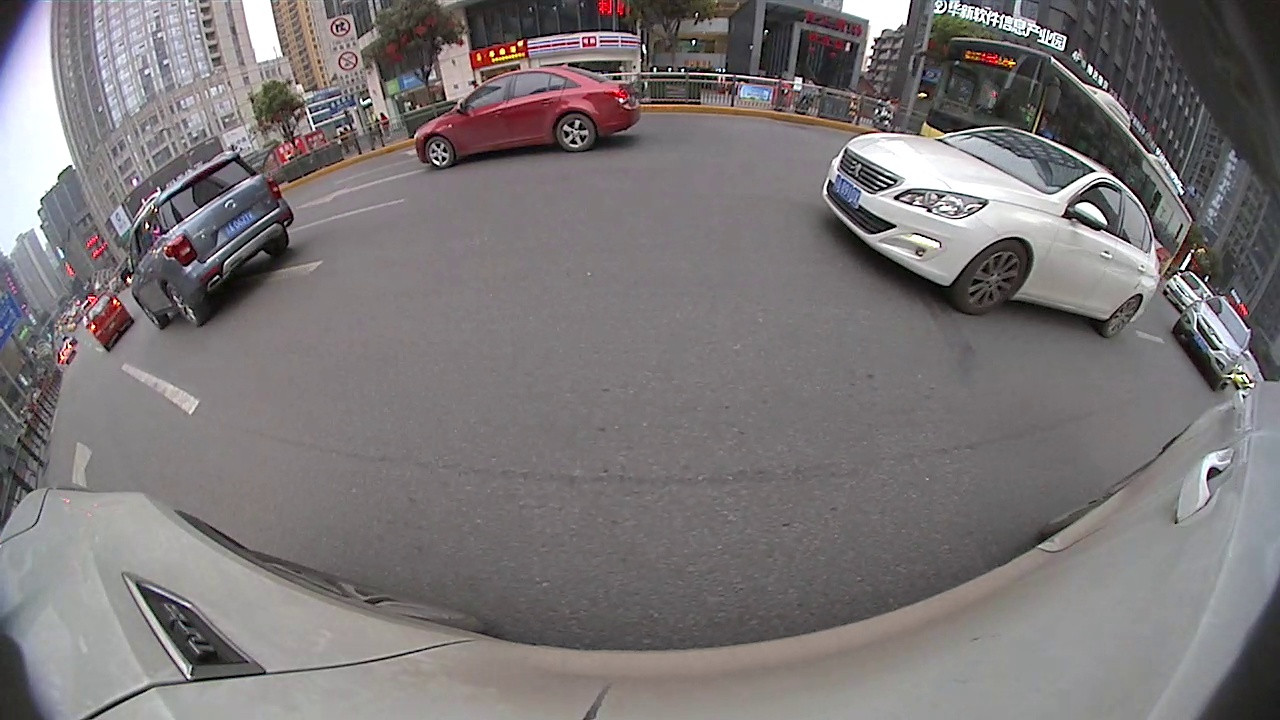bus: (918, 34, 1196, 287)
car: (819, 123, 1163, 339), (103, 150, 296, 332), (411, 62, 642, 172), (1171, 293, 1253, 394)
front: (955, 238, 1029, 317), (423, 135, 455, 169)
rear: (163, 281, 206, 332), (1100, 292, 1143, 340), (554, 114, 596, 154)
rider: (83, 290, 135, 352)
